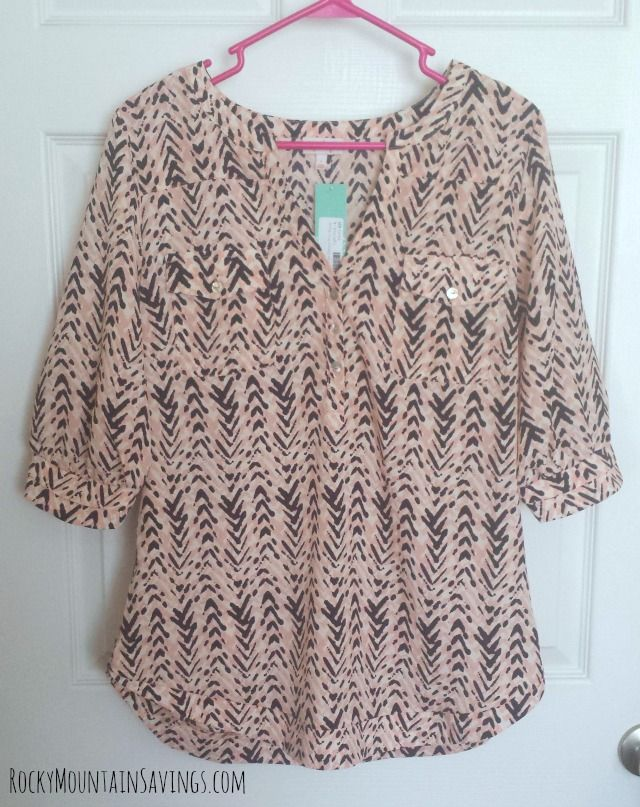C_blouse: (5, 45, 640, 772)
